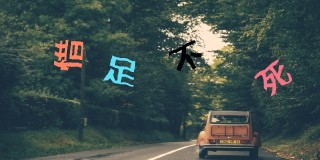不: (167, 42, 205, 71)
惜: (50, 37, 87, 71)
死: (254, 58, 294, 96)
足: (102, 54, 137, 90)
